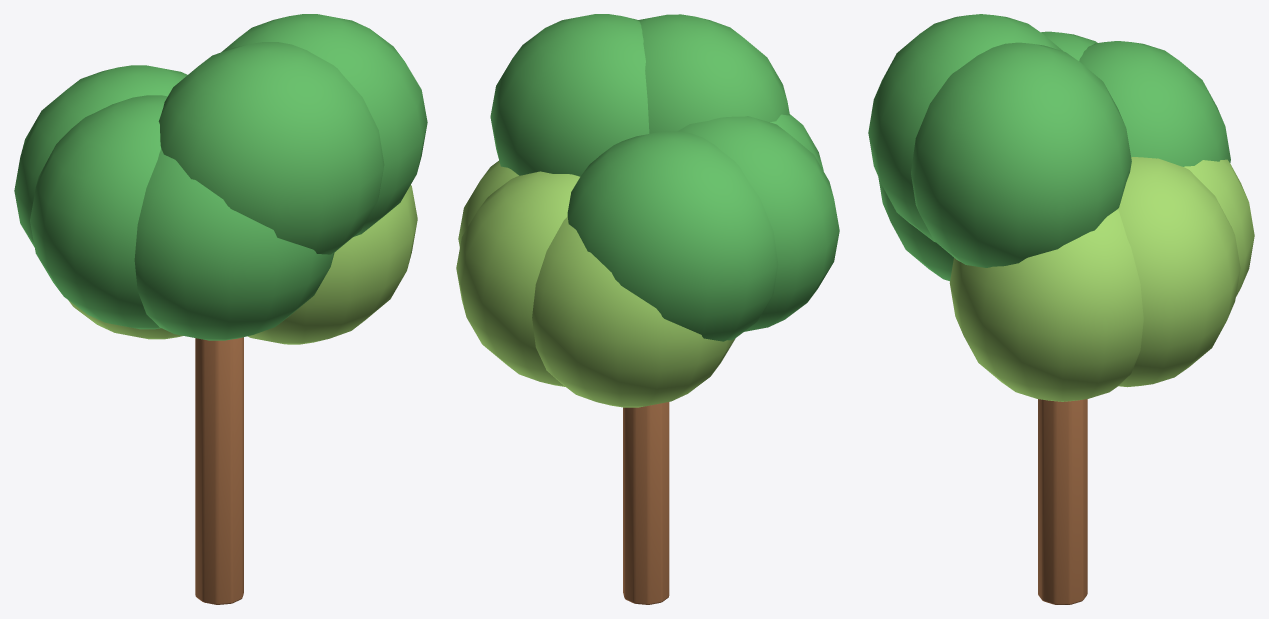
File: Tree.fbx
The picture shows the model from 3 angles, left to right: view 1: azimuth 30°, elevation 25°; view 2: azimuth 150°, elevation 25°; view 3: azimuth 270°, elevation 25°; orthographic projection. The views are drawn at different scales.
Parts seen in each view (by area): view 1: GEO-Canopy.002, GEO-Canopy.007, GEO-Canopy.004, GEO-Trunk, GEO-Canopy.005, GEO-Canopy, GEO-Canopy.001, GEO-Canopy.006; view 2: GEO-Canopy.001, GEO-Canopy.005, GEO-Canopy.006, GEO-Canopy.003, GEO-Canopy.004, GEO-Canopy.002, GEO-Trunk, GEO-Canopy, GEO-Canopy.007; view 3: GEO-Canopy.005, GEO-Canopy, GEO-Canopy.003, GEO-Canopy.002, GEO-Canopy.001, GEO-Trunk, GEO-Canopy.006, GEO-Canopy.007, GEO-Canopy.004.
Part boxes in pixels (box(x1,y1,x2,y2)): GEO-Canopy.002: box(158, 42, 384, 254); GEO-Canopy.007: box(134, 149, 334, 340); GEO-Canopy.004: box(30, 95, 167, 329); GEO-Trunk: box(195, 337, 243, 604); GEO-Canopy.005: box(222, 14, 427, 236); GEO-Canopy: box(248, 185, 417, 344); GEO-Canopy.001: box(14, 65, 187, 246); GEO-Canopy.006: box(68, 300, 182, 339); GEO-Canopy.001: box(567, 131, 778, 341); GEO-Canopy.005: box(490, 14, 649, 176); GEO-Canopy.006: box(532, 217, 735, 407); GEO-Canopy.003: box(456, 171, 579, 386); GEO-Canopy.004: box(678, 116, 839, 331); GEO-Canopy.002: box(638, 14, 789, 133); GEO-Trunk: box(623, 402, 669, 604); GEO-Canopy: box(458, 160, 518, 247); GEO-Canopy.007: box(770, 114, 823, 170); GEO-Canopy.005: box(911, 42, 1131, 267); GEO-Canopy: box(949, 209, 1143, 401); GEO-Canopy.003: box(1118, 157, 1240, 387); GEO-Canopy.002: box(868, 14, 1062, 242); GEO-Canopy.001: box(1079, 41, 1230, 166); GEO-Trunk: box(1038, 399, 1087, 604); GEO-Canopy.006: box(1184, 159, 1254, 296); GEO-Canopy.007: box(878, 177, 953, 281); GEO-Canopy.004: box(1041, 31, 1097, 60).
Size of the model in its own units: 2.87 by 4.26 by 2.6.
